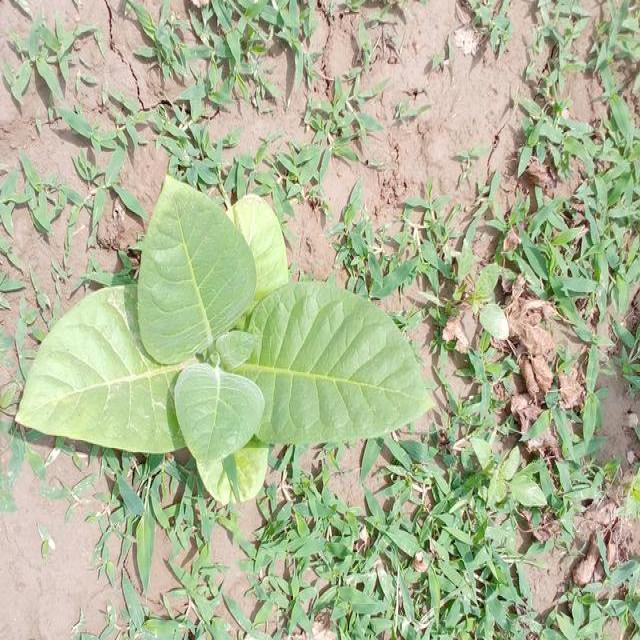crop: (25, 194, 438, 504)
